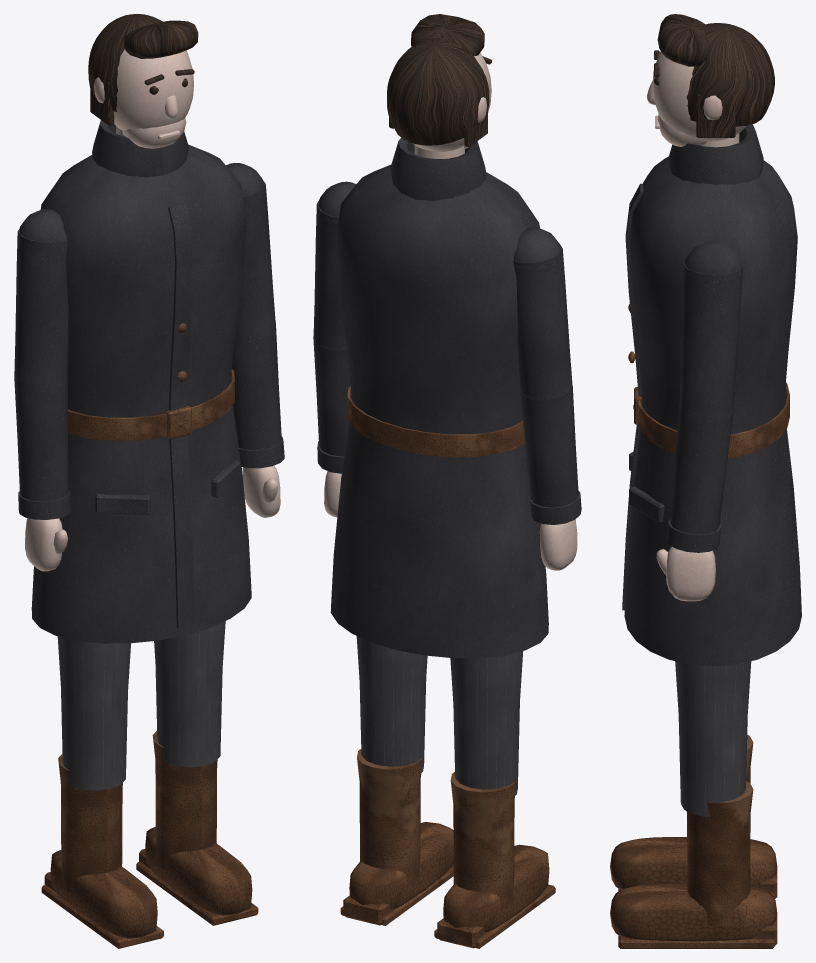
The model's file is player.obj.
3 renders of one model, left to right at view 1: azimuth 30°, elevation 25°; view 2: azimuth 150°, elevation 25°; view 3: azimuth 270°, elevation 25°, orthographic. The views are drawn at different scales.
Parts seen in each view (by area): view 1: player_coat, player_leather, player_trousers, player_skin, player_hair; view 2: player_coat, player_leather, player_trousers, player_hair, player_skin; view 3: player_coat, player_leather, player_trousers, player_hair, player_skin.
Boxes of the visible parts, x1,y1,x2,y2 form: player_coat: [14, 120, 284, 643]; player_leather: [41, 323, 258, 948]; player_trousers: [57, 621, 225, 790]; player_skin: [25, 49, 280, 571]; player_hair: [88, 14, 198, 125]; player_coat: [313, 137, 581, 658]; player_leather: [340, 386, 555, 948]; player_trousers: [356, 636, 523, 795]; player_hair: [387, 14, 492, 146]; player_skin: [324, 53, 577, 570]; player_coat: [622, 124, 801, 666]; player_leather: [610, 303, 789, 948]; player_trousers: [675, 661, 751, 816]; player_hair: [654, 14, 774, 137]; player_skin: [647, 51, 746, 601].
Bounding box in the file's own units: 0.55 × 1.8 × 0.35.
Materials: 5 (5 with a texture image).
